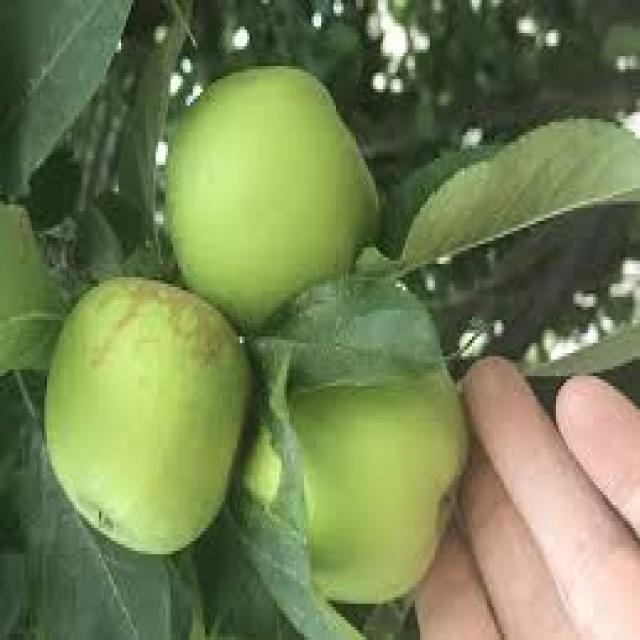apple: (45, 277, 250, 554), (231, 371, 465, 603), (167, 67, 378, 324)
